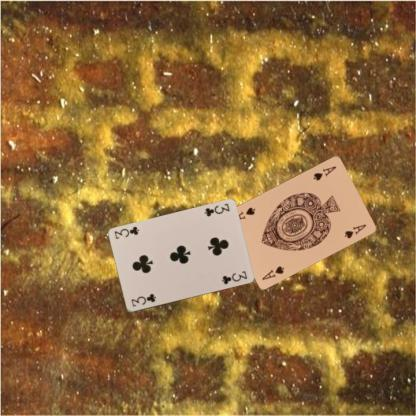3c: (128, 291, 157, 308), (202, 201, 231, 218)
As: (311, 163, 337, 181), (260, 263, 286, 281)
